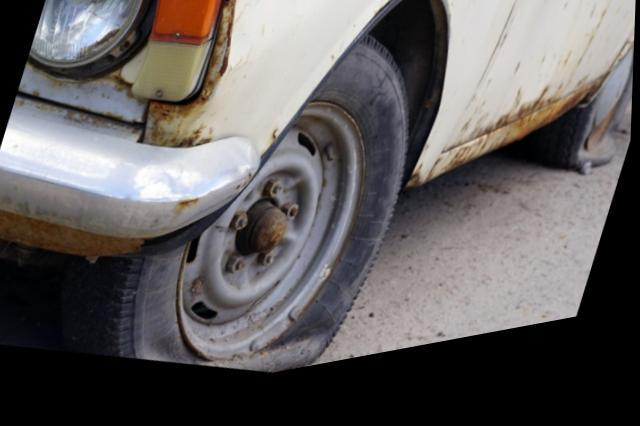tire flat: (102, 53, 407, 384), (551, 63, 635, 193)
